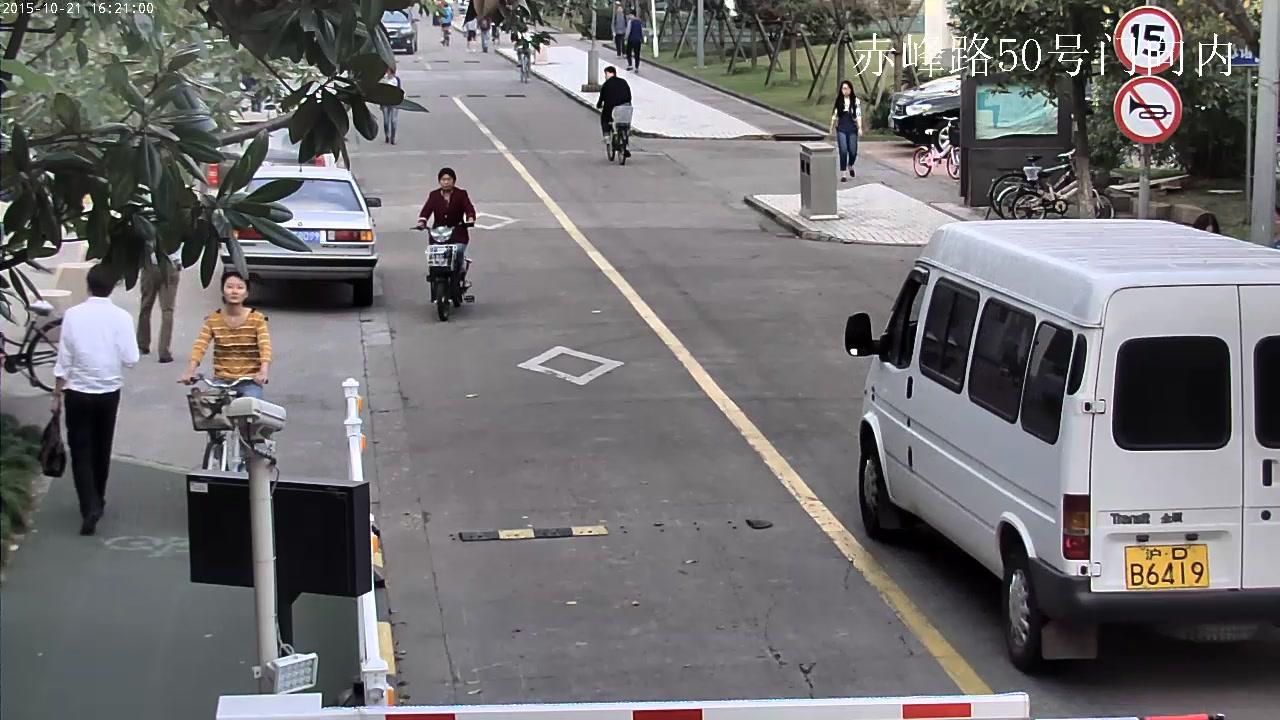person: (38, 264, 139, 534), (176, 270, 270, 472), (184, 271, 270, 400), (408, 167, 475, 321), (416, 167, 475, 301), (137, 241, 184, 363), (829, 80, 863, 182), (596, 66, 631, 165), (596, 66, 631, 157), (378, 66, 399, 145), (511, 18, 534, 84), (624, 10, 644, 73), (512, 18, 534, 68), (611, 0, 628, 55), (461, 6, 476, 53), (438, 3, 453, 46), (439, 3, 453, 28)
